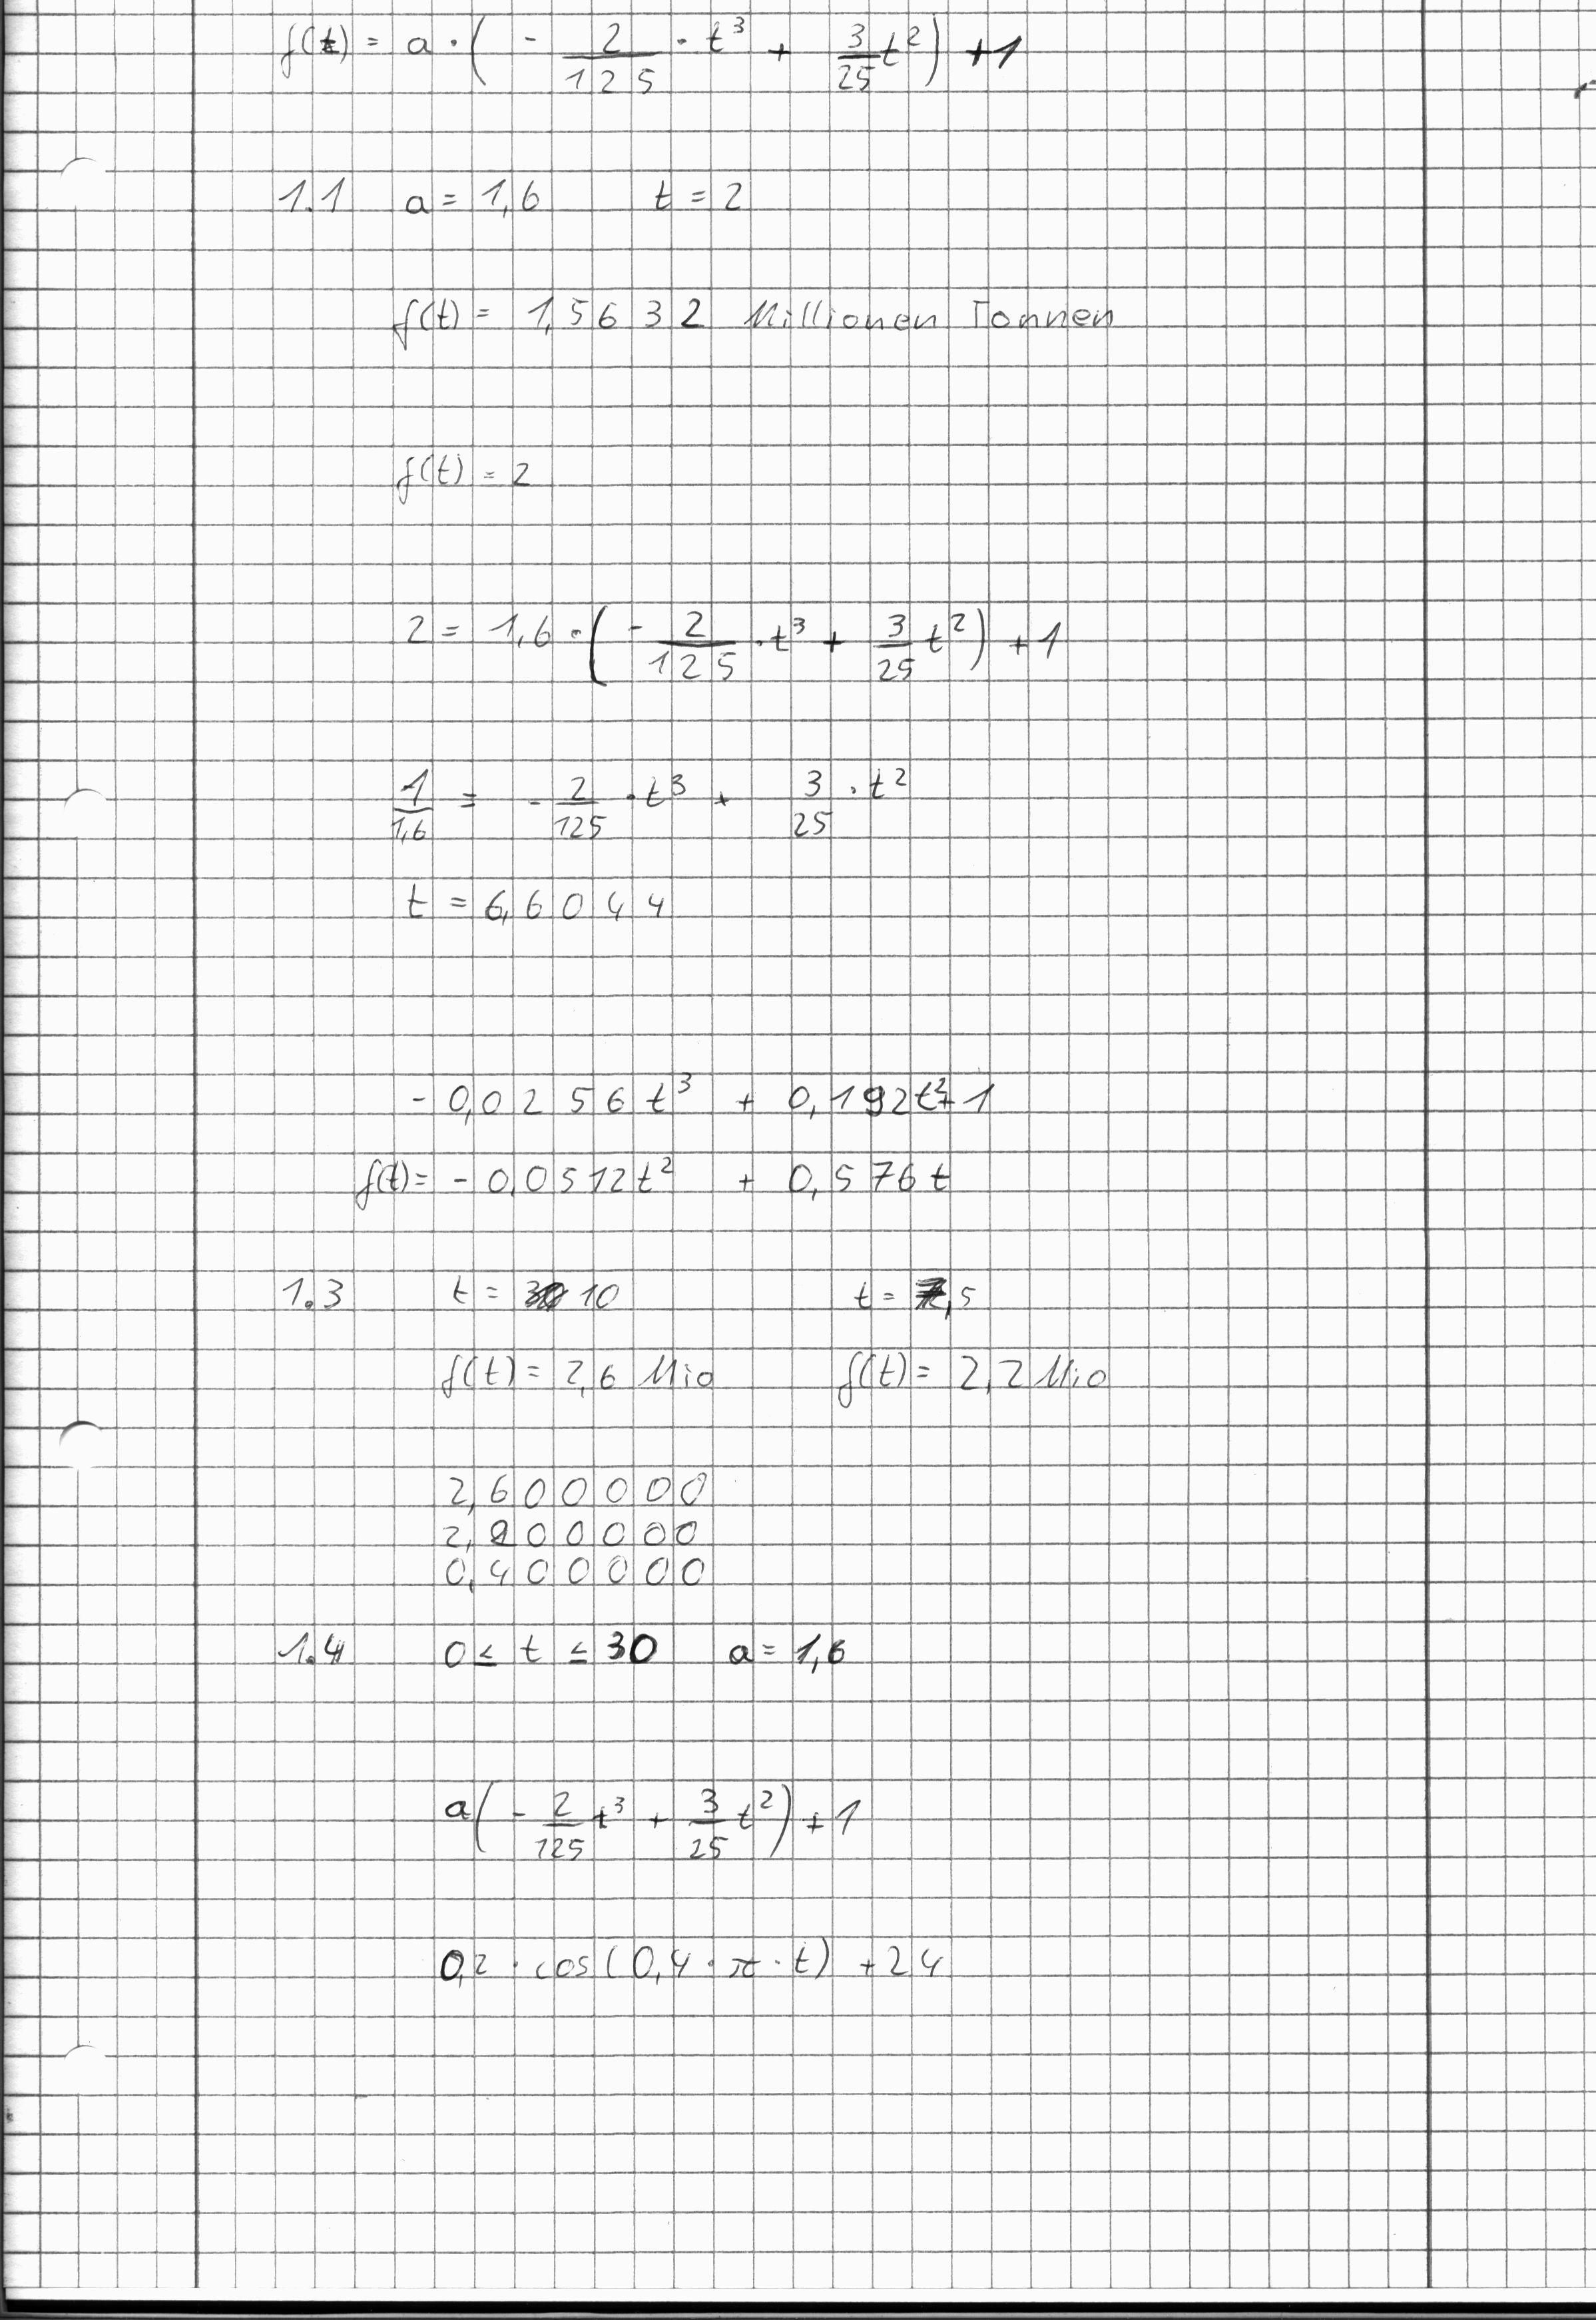word: (342, 1067, 997, 1218), (397, 582, 1078, 700), (378, 263, 1125, 366), (270, 6, 1031, 103), (373, 752, 920, 862), (426, 1908, 955, 2015), (433, 1757, 876, 1874), (423, 1263, 731, 1415), (820, 1264, 1117, 1419), (429, 1456, 721, 1605), (264, 149, 754, 233), (386, 864, 696, 948), (429, 1612, 666, 1698), (370, 425, 552, 524), (713, 1607, 882, 1698), (256, 1603, 386, 1701), (258, 1243, 367, 1340)
